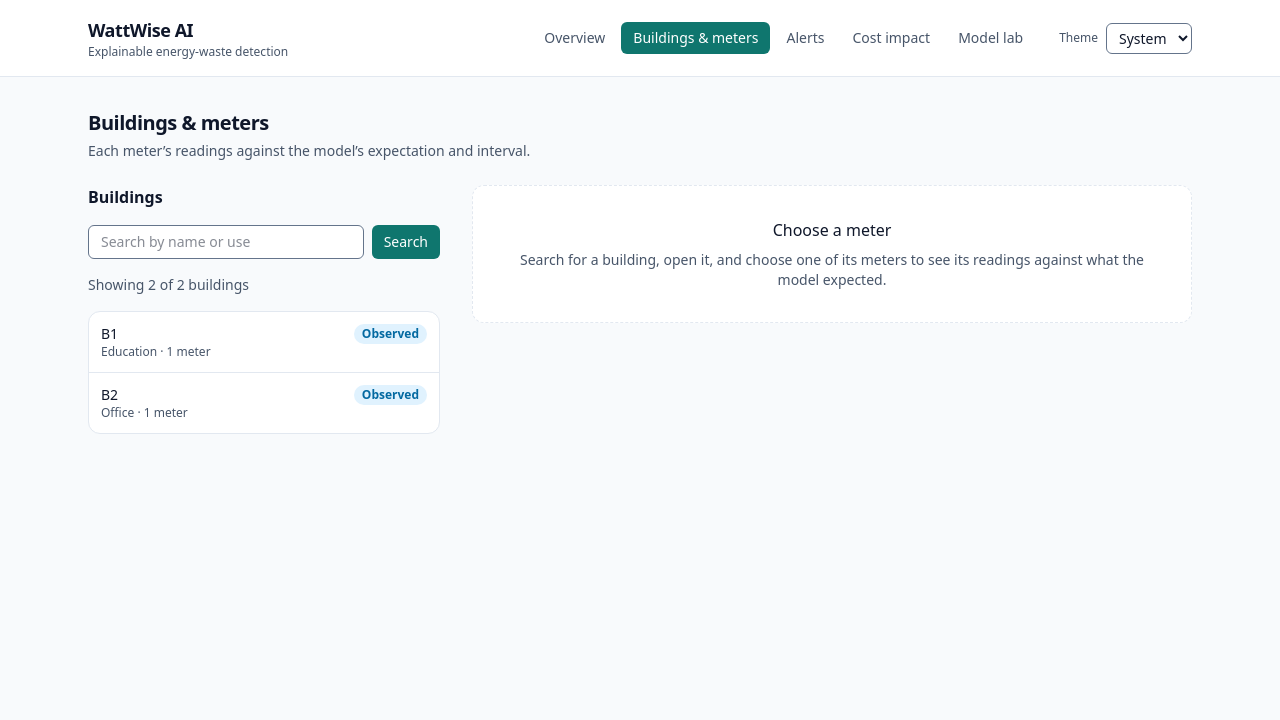
Test case: Explorer: a meter › has two labelled charts
Click the button "B1 Education · 1 meter Observed".
click(129, 352)  # box [101,324,427,360]
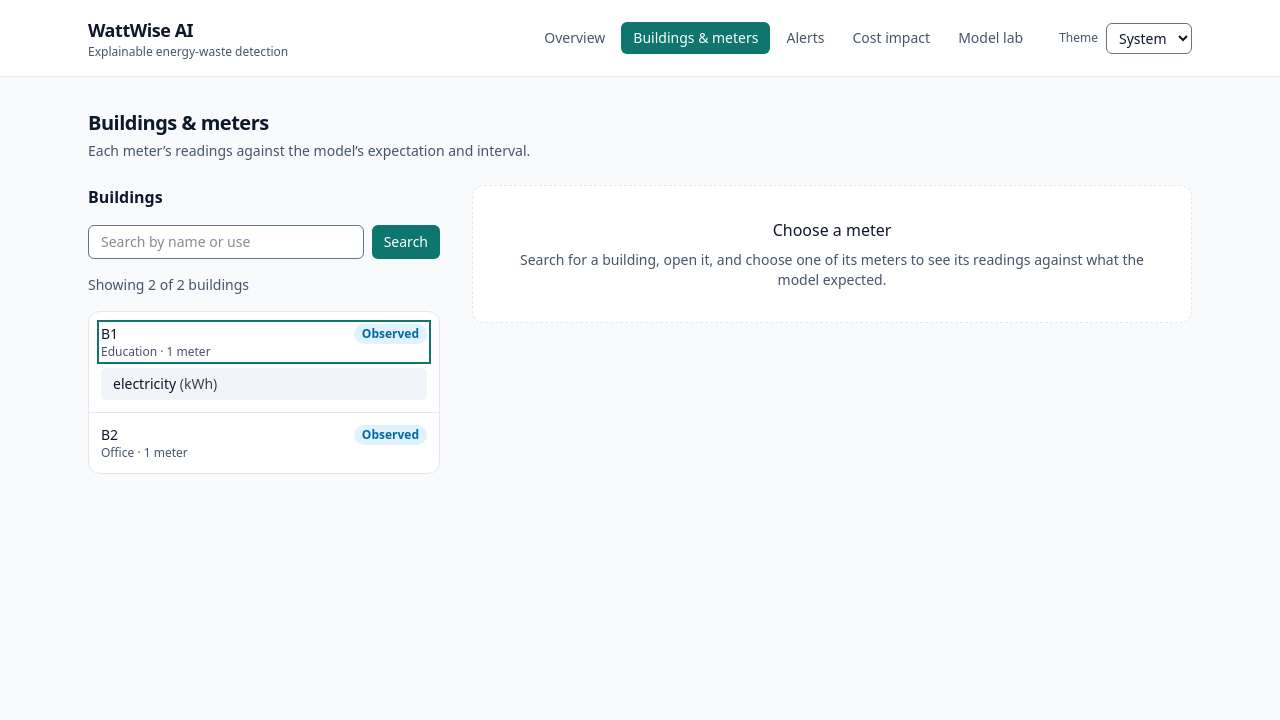
Click the button "electricity (kWh)".
click(145, 384)  # box [101,368,427,400]
(page scrolled)
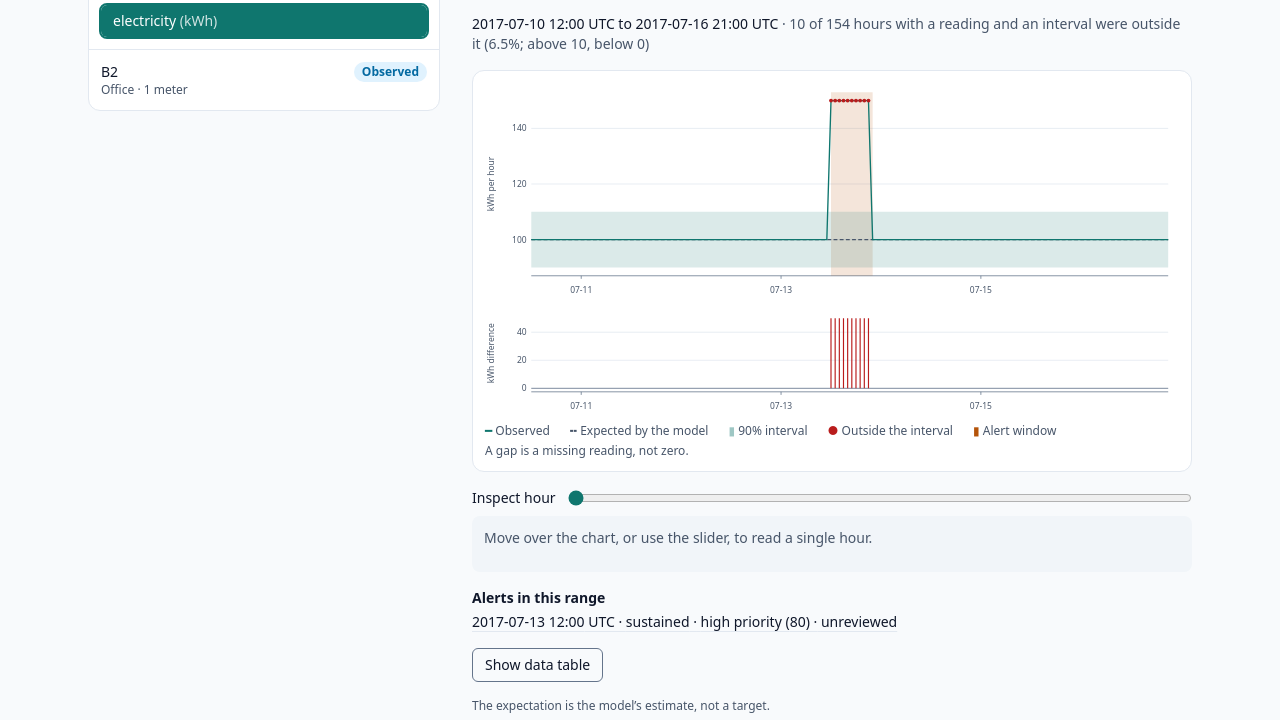
Expected: the picture named "observed and expected energy in kWh per hour" is shown, [485,83,1179,299]
Expected: the picture named "observed minus expected" is shown, [485,307,1179,415]
